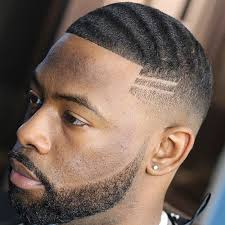black_male: (16, 10, 214, 224)
